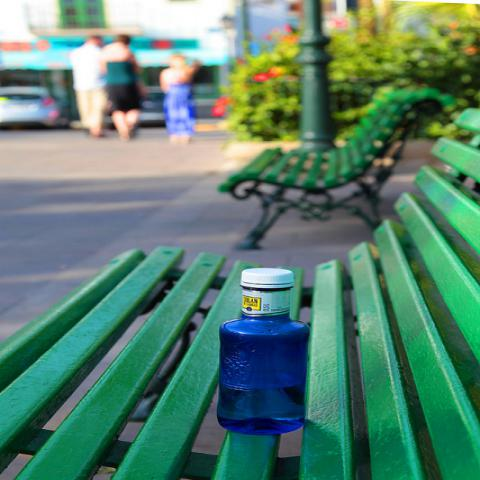car: (0, 84, 62, 126)
